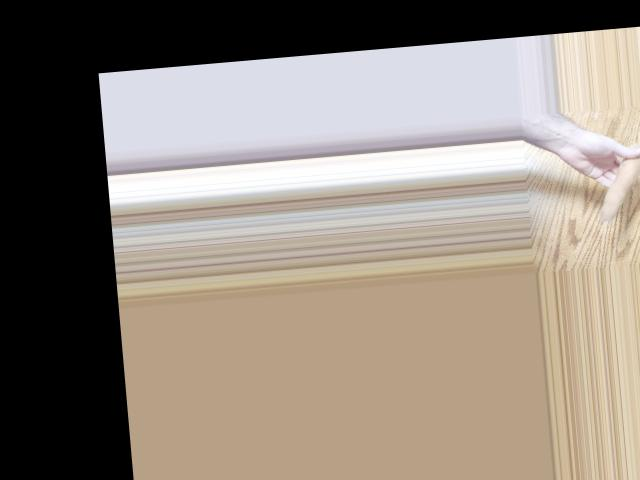sweet_potato: (593, 140, 640, 221)
